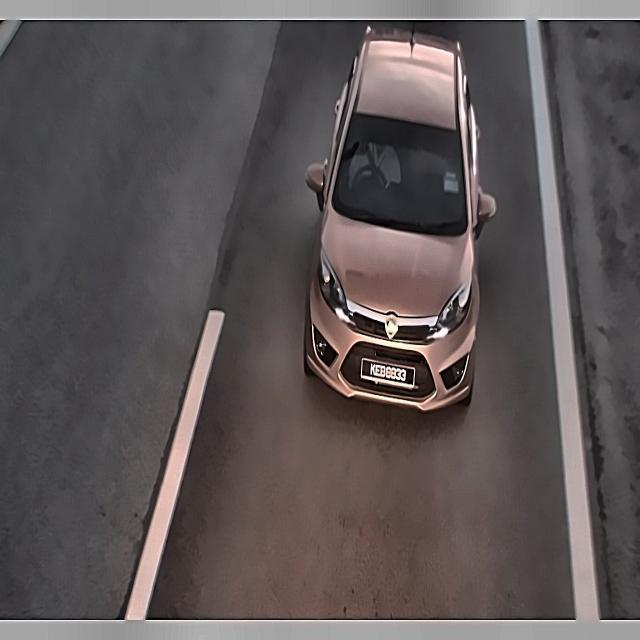car: (361, 353, 418, 399)
